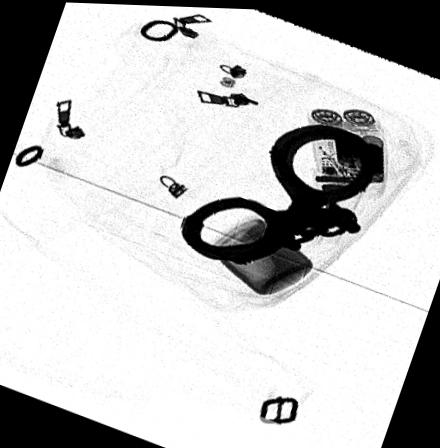HandCuffs: (179, 120, 384, 264)
